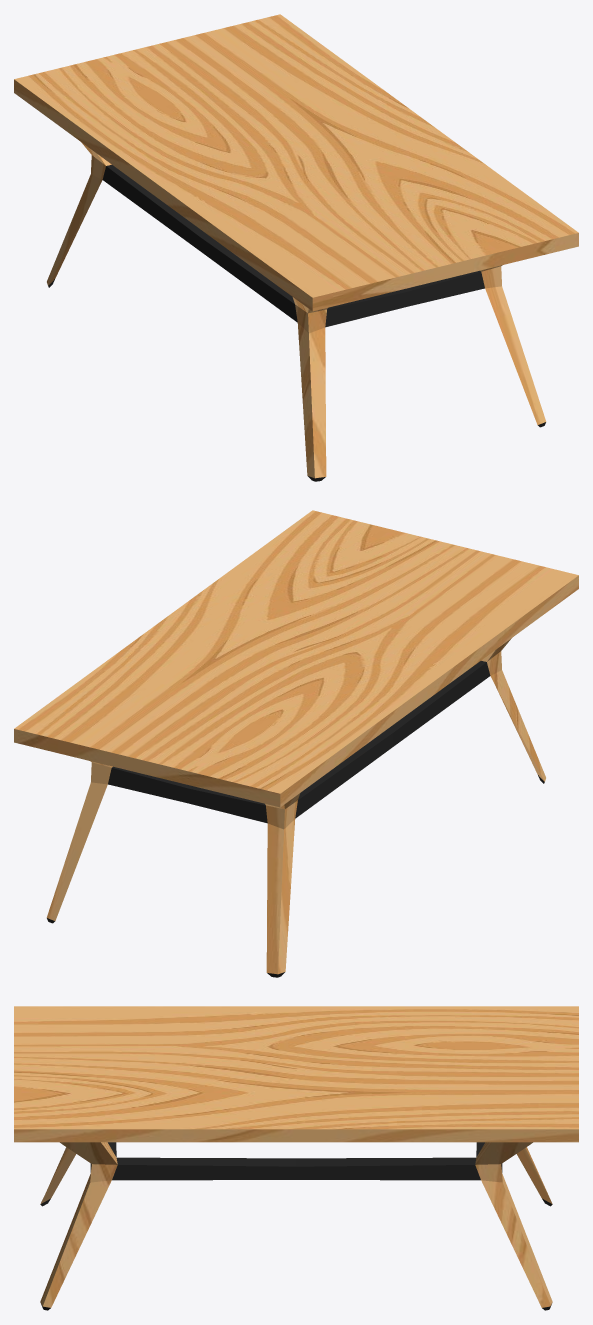
File: Table.fbx
3 renders of one model, top to bottom at view 1: azimuth 30°, elevation 25°; view 2: azimuth 150°, elevation 25°; view 3: azimuth 270°, elevation 25°, orthographic. The views are drawn at different scales.
Parts seen in each view (by area): view 1: Table; view 2: Table; view 3: Table.
Boxes of the visible parts, x1,y1,x2,y2 form: Table: (14,14,578,481); Table: (14,510,578,977); Table: (14,1006,578,1310).
Size of the model in its own units: 1385 by 713 by 512.
1 material, 1 textured.
